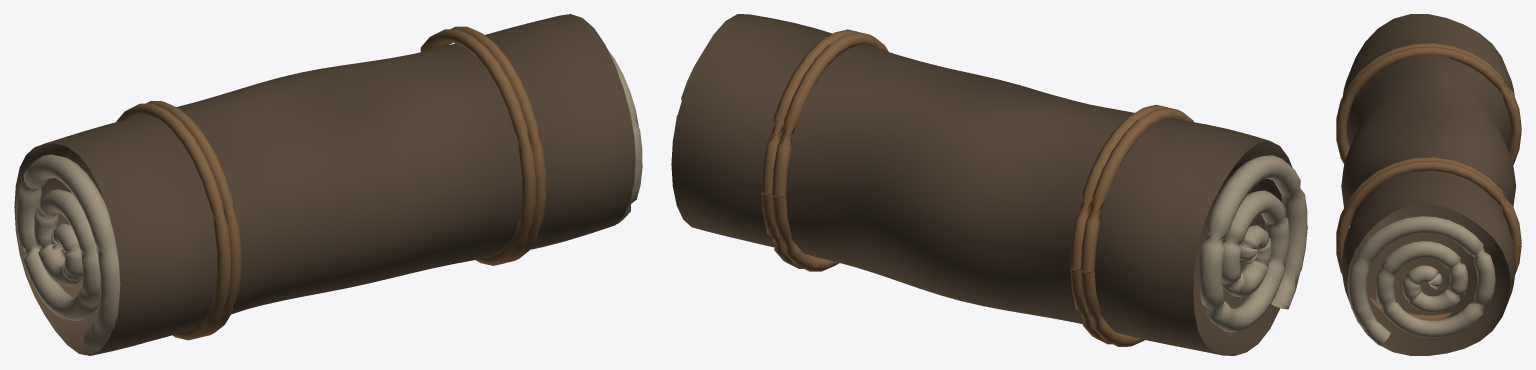
Rendered from boar_bedroll.glb.
3 renders of one model, left to right at view 1: azimuth 30°, elevation 25°; view 2: azimuth 150°, elevation 25°; view 3: azimuth 270°, elevation 25°, orthographic. The views are drawn at different scales.
Parts seen in each view (by area): view 1: boar_bedroll; view 2: boar_bedroll; view 3: boar_bedroll.
Boxes of the visible parts, x1=… form: boar_bedroll: x1=14, y1=14, x2=642, y2=355; boar_bedroll: x1=671, y1=14, x2=1307, y2=355; boar_bedroll: x1=1336, y1=14, x2=1521, y2=355.
Bounding box in the file's own units: 0.524 × 0.2034 × 0.2034.
